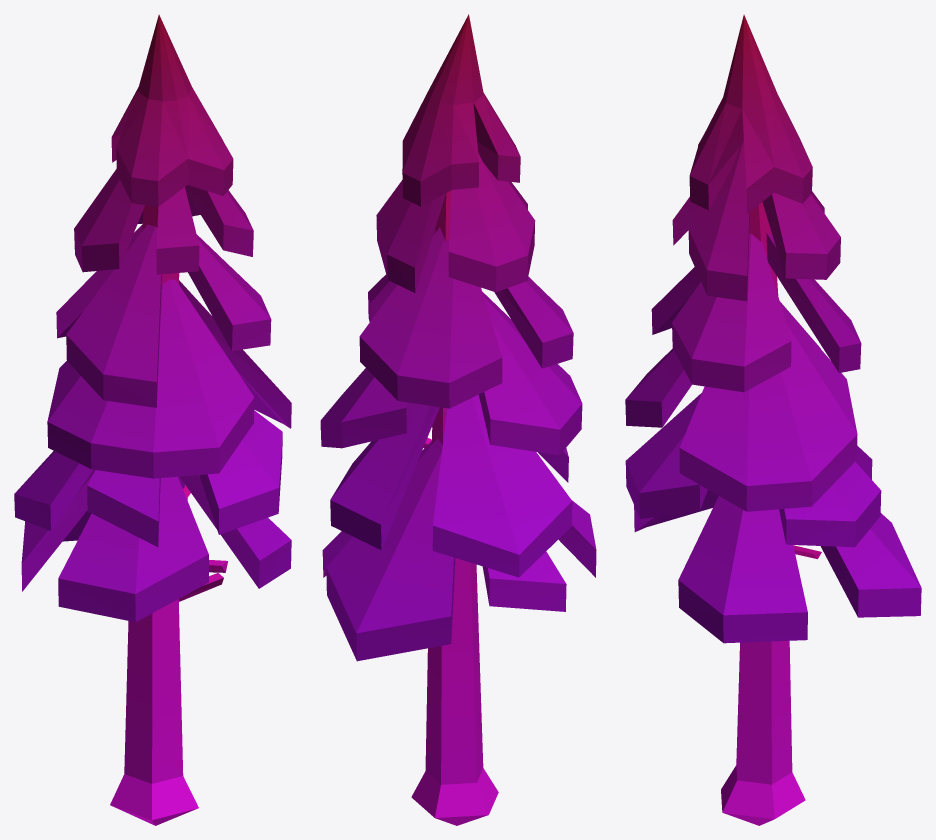
The model's file is SM_Gen_Env_Tree_Pine_03.glb.
3 views of the same model, side by side, from view 1: azimuth 30°, elevation 25°; view 2: azimuth 150°, elevation 25°; view 3: azimuth 270°, elevation 25° (orthographic).
Visible parts, largest first — view 1: SM_Gen_Env_Tree_Pine_032; view 2: SM_Gen_Env_Tree_Pine_032; view 3: SM_Gen_Env_Tree_Pine_032.
Boxes of the visible parts, x1,y1,x2,y2 form: SM_Gen_Env_Tree_Pine_032: (14,14,291,825); SM_Gen_Env_Tree_Pine_032: (320,14,596,825); SM_Gen_Env_Tree_Pine_032: (625,14,921,825).
Size of the model in its own units: 2.12 by 6.76 by 2.24.
